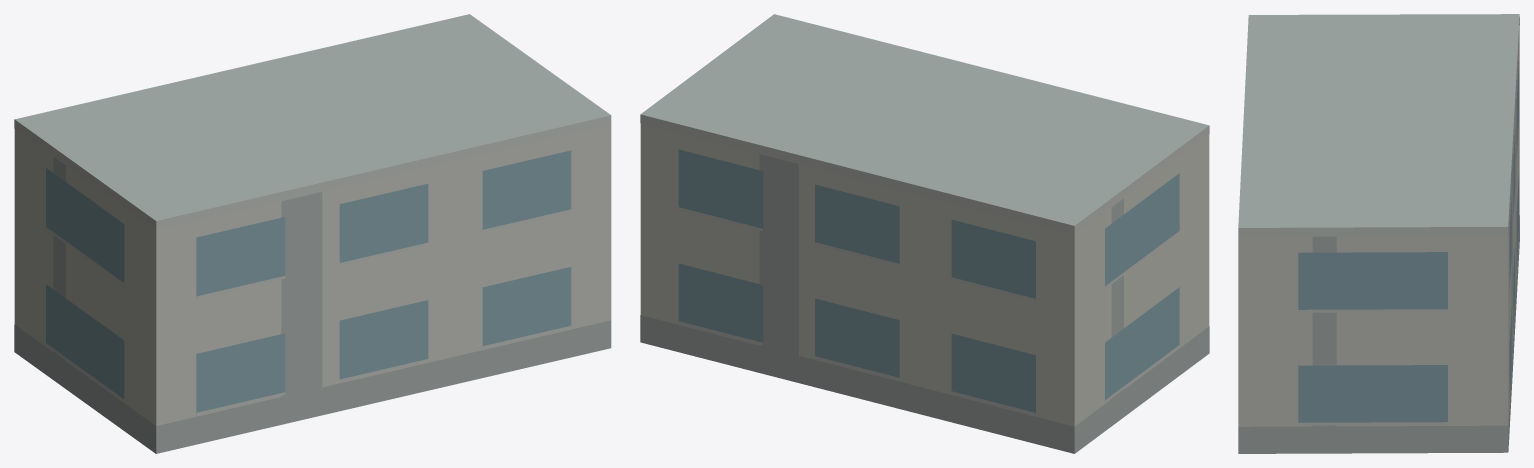
Rendered from survey-upis-33035650.glb.
The picture shows the model from 3 angles, left to right: view 1: azimuth 30°, elevation 25°; view 2: azimuth 150°, elevation 25°; view 3: azimuth 270°, elevation 25°; orthographic projection. The views are drawn at different scales.
Parts seen in each view (by area): view 1: survey-upis-33035650.tmp; view 2: survey-upis-33035650.tmp; view 3: survey-upis-33035650.tmp.
Part boxes in pixels (x1,y1,x2,y2): survey-upis-33035650.tmp: (14, 14, 611, 453); survey-upis-33035650.tmp: (640, 14, 1209, 453); survey-upis-33035650.tmp: (1238, 14, 1519, 453).
Size of the model in its own units: 12.4 by 6.1 by 6.9.
